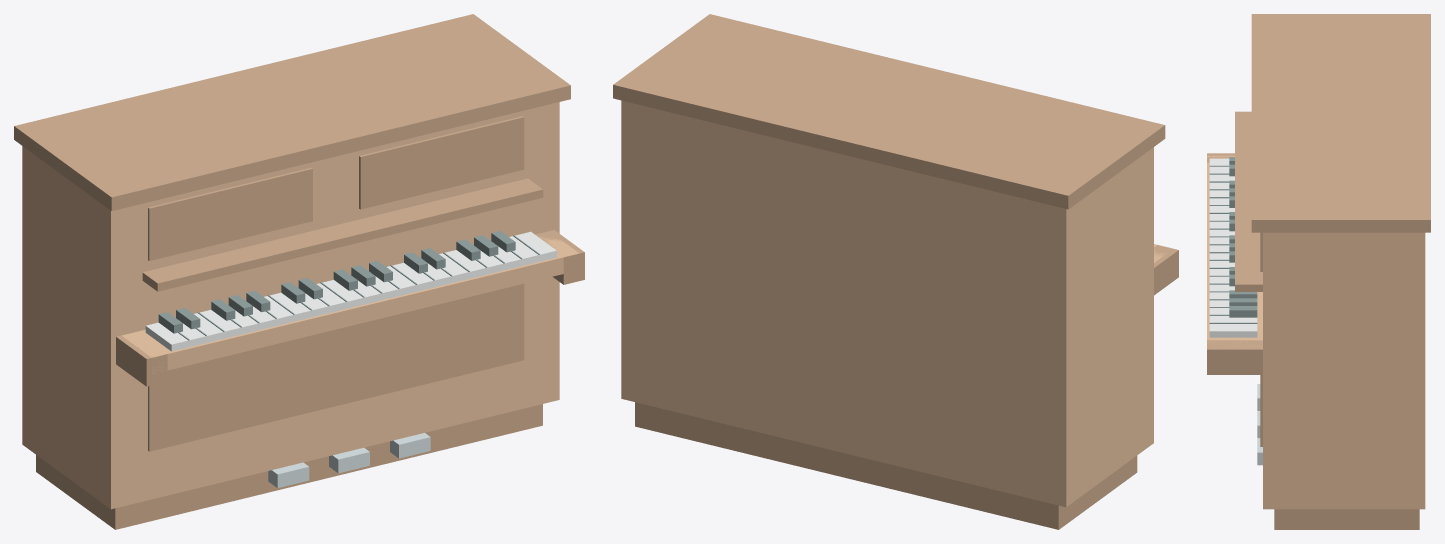
Rendered from piano.glb.
The picture shows the model from 3 angles, left to right: view 1: azimuth 30°, elevation 25°; view 2: azimuth 150°, elevation 25°; view 3: azimuth 270°, elevation 25°; orthographic projection. The views are drawn at different scales.
Visible parts, largest first — view 1: piano; view 2: piano; view 3: piano.
Boxes of the visible parts, x1,y1,x2,y2 form: piano: [14, 14, 584, 529]; piano: [613, 14, 1178, 529]; piano: [1207, 14, 1430, 529].
Bounding box in the file's own units: 0.87 × 0.625 × 0.4.
